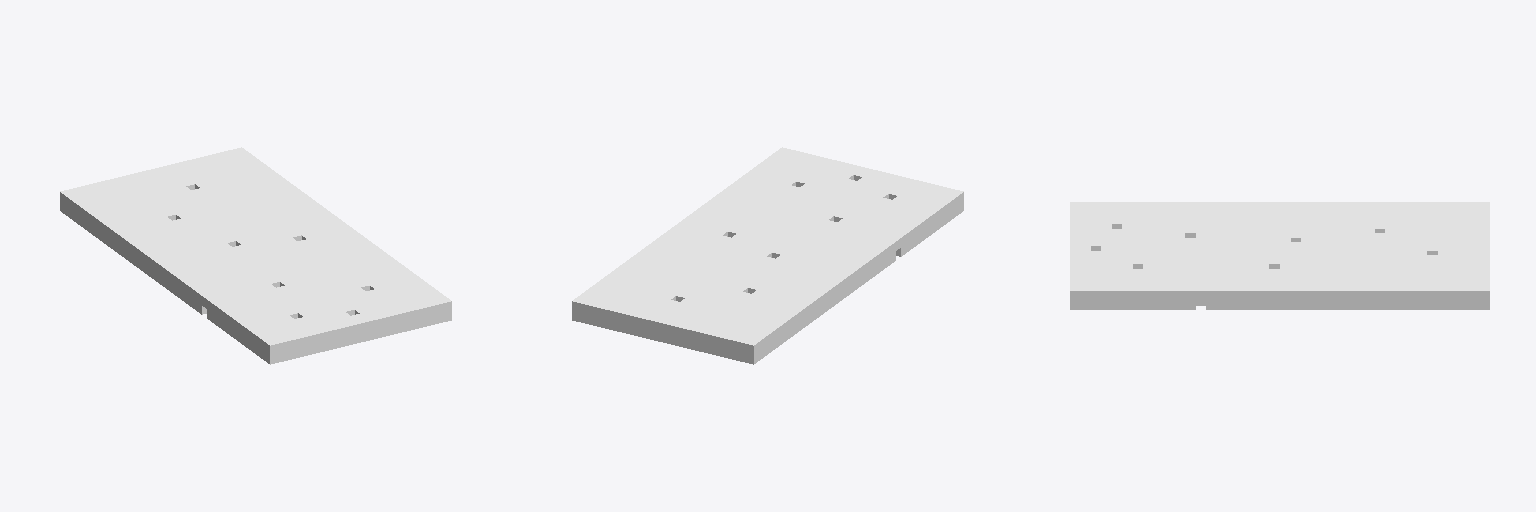
Rendered from MiddleRoadThing.obj.
3 views of the same model, side by side, from view 1: azimuth 30°, elevation 25°; view 2: azimuth 150°, elevation 25°; view 3: azimuth 270°, elevation 25° (orthographic).
Size of the model in its own units: 20 by 2 by 40.